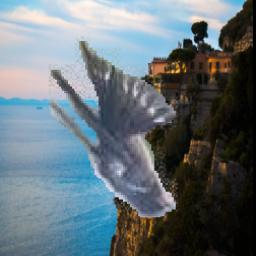Swallow: (50, 38, 179, 218)
